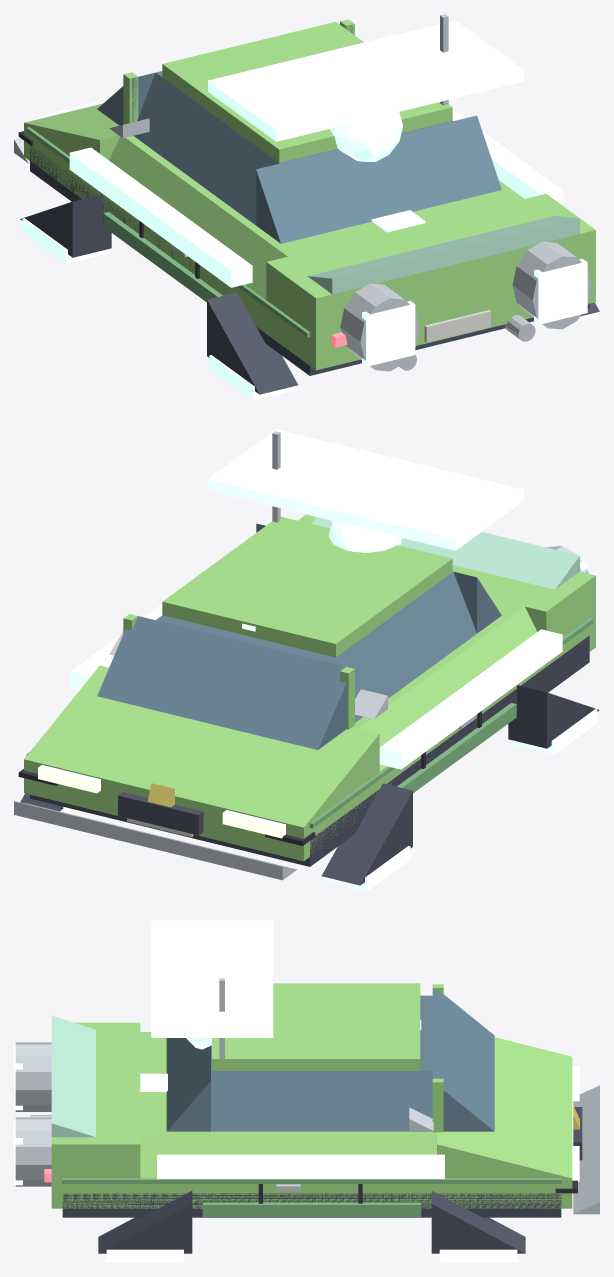
Rendered from maglev_manta.glb.
3 views of the same model, one above another, from view 1: azimuth 30°, elevation 25°; view 2: azimuth 150°, elevation 25°; view 3: azimuth 270°, elevation 25° (orthographic). The views are drawn at different scales.
Parts seen in each view (by area): view 1: SolarSail.017, RearWindow.208, Tail.108, Roof.308, CabinSideL.105, Body.308, FloatFin-1.050, Ducktail.075, ShoulderL.105, HoverPodWheel_RL.050, BodyUpper.105, HoverPodWheel_FL.050 (+17 smaller); view 2: Nose.105, Roof.308, Windshield.208, SolarSail.017, CabinSideL.105, Body.308, FloatFin-1.050, ShoulderL.105, Sill.304, Ducktail.075, HoverPodWheel_FL.050, Tail.108 (+16 smaller); view 3: Roof.308, SolarSail.017, CabinSideR.105, Nose.105, Body.308, Tail.108, Sill.304, FloatFin1.050, Windshield.208, ShoulderR.105, Ducktail.075, RearWindow.208 (+13 smaller).
Part boxes in pixels (x1=…): SolarSail.017: x1=208, y1=20, x2=523, y2=141; RearWindow.208: x1=256, y1=115, x2=501, y2=243; Tail.108: x1=266, y1=193, x2=595, y2=336; Roof.308: x1=162, y1=21, x2=452, y2=162; CabinSideL.105: x1=133, y1=72, x2=279, y2=225; Body.308: x1=24, y1=123, x2=595, y2=370; FloatFin-1.050: x1=69, y1=147, x2=252, y2=287; Ducktail.075: x1=307, y1=215, x2=579, y2=294; ShoulderL.105: x1=109, y1=137, x2=287, y2=299; HoverPodWheel_RL.050: x1=207, y1=292, x2=297, y2=394; BodyUpper.105: x1=126, y1=136, x2=524, y2=256; HoverPodWheel_FL.050: x1=20, y1=194, x2=111, y2=257; Nose.105: x1=24, y1=665, x2=379, y2=827; Roof.308: x1=162, y1=516, x2=452, y2=657; Windshield.208: x1=97, y1=616, x2=346, y2=749; SolarSail.017: x1=208, y1=429, x2=523, y2=550; CabinSideL.105: x1=329, y1=571, x2=476, y2=722; Body.308: x1=24, y1=614, x2=595, y2=861; FloatFin-1.050: x1=379, y1=629, x2=562, y2=769; ShoulderL.105: x1=358, y1=606, x2=536, y2=771; Sill.304: x1=30, y1=635, x2=589, y2=866; Ducktail.075: x1=311, y1=517, x2=579, y2=589; HoverPodWheel_FL.050: x1=321, y1=783, x2=412, y2=885; Tail.108: x1=298, y1=514, x2=595, y2=637; Roof.308: x1=212, y1=983, x2=420, y2=1070; SolarSail.017: x1=151, y1=920, x2=273, y2=1037; CabinSideR.105: x1=211, y1=1071, x2=432, y2=1131; Nose.105: x1=437, y1=1037, x2=572, y2=1178; Body.308: x1=51, y1=1178, x2=572, y2=1208; Tail.108: x1=51, y1=1022, x2=140, y2=1178; Sill.304: x1=62, y1=1193, x2=561, y2=1217; FloatFin1.050: x1=157, y1=1154, x2=444, y2=1178; Windshield.208: x1=432, y1=988, x2=494, y2=1131; ShoulderR.105: x1=140, y1=1135, x2=436, y2=1178; Ducktail.075: x1=51, y1=1016, x2=95, y2=1137; RearWindow.208: x1=166, y1=1038, x2=210, y2=1131.
Bounding box in the file's own units: 3.2 × 2.44 × 5.29.
